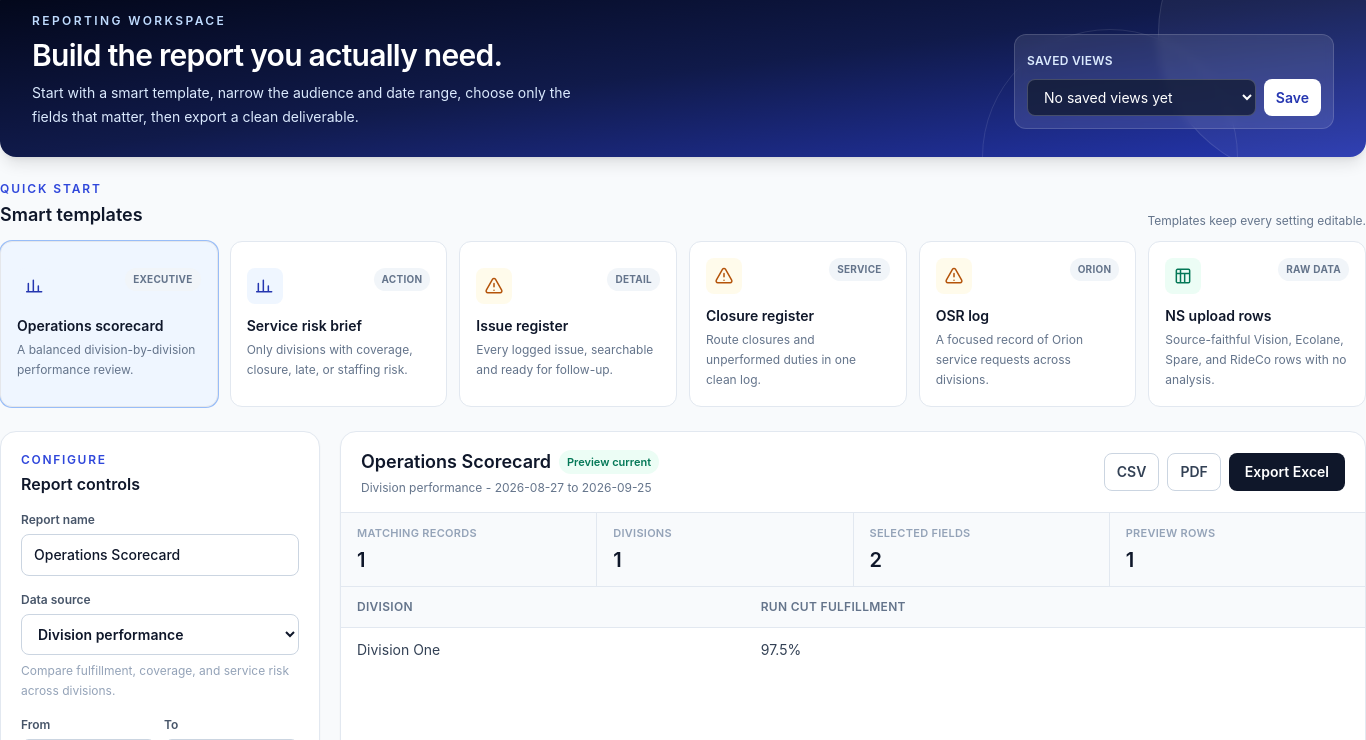
Scenario: offers confirmed Network Success upload rows as a raw, non-analyzed source
Expected: the text "97.5%" is shown, [745,627,1365,672]
Click the button "NS upload rows".
click(1257, 324)  # box [1148,241,1365,407]
(page scrolled)
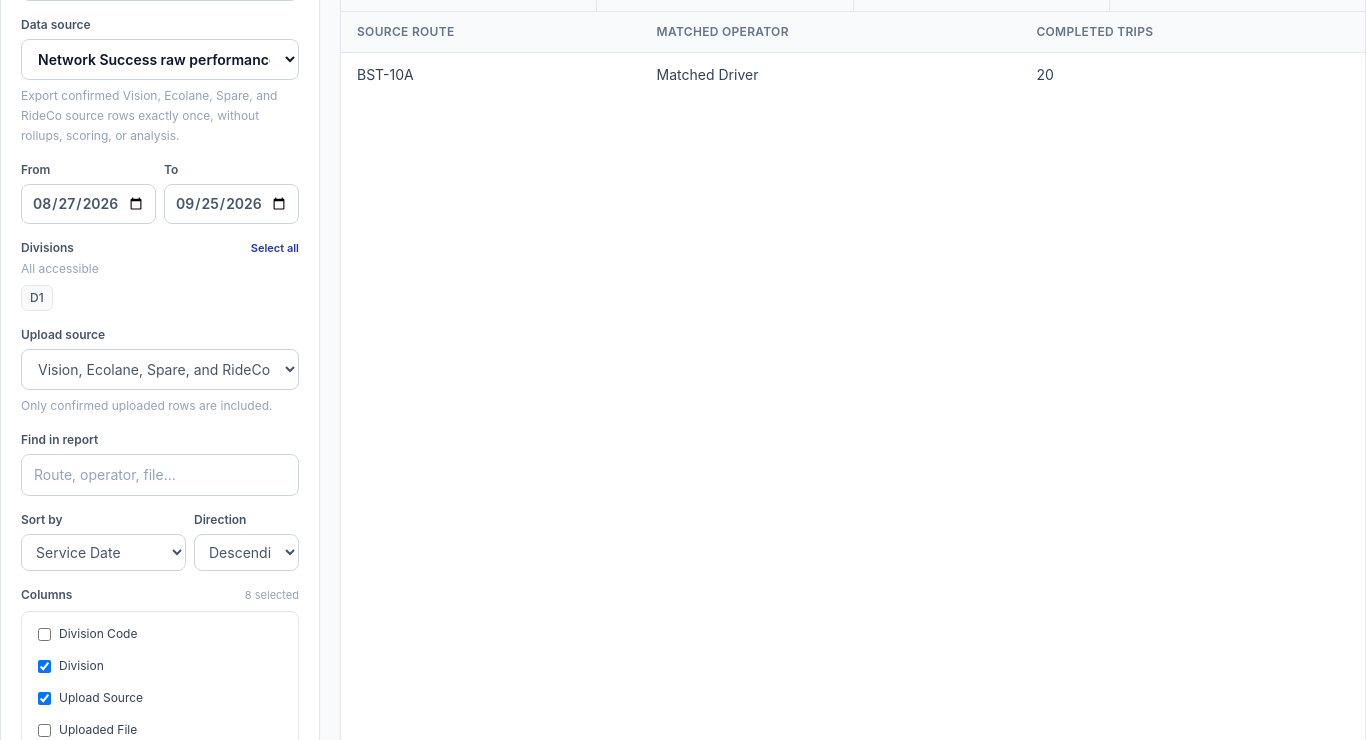
Expected: the text "BST-10A" is shown, [341,52,641,96]
Expected: the text "Matched Driver" is shown, [641,52,1020,96]
Expected: the text "without rollups, scoring, or analysis" is shown, [21,88,277,143]
